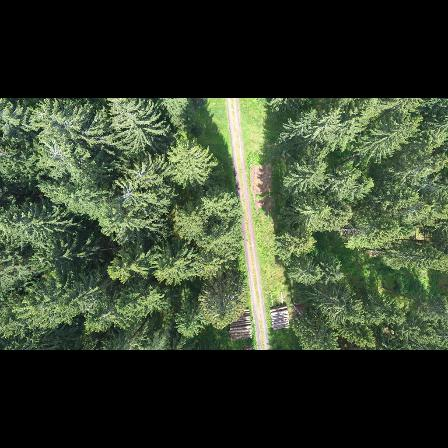Sick: (40, 136, 72, 170), (116, 183, 142, 207)
